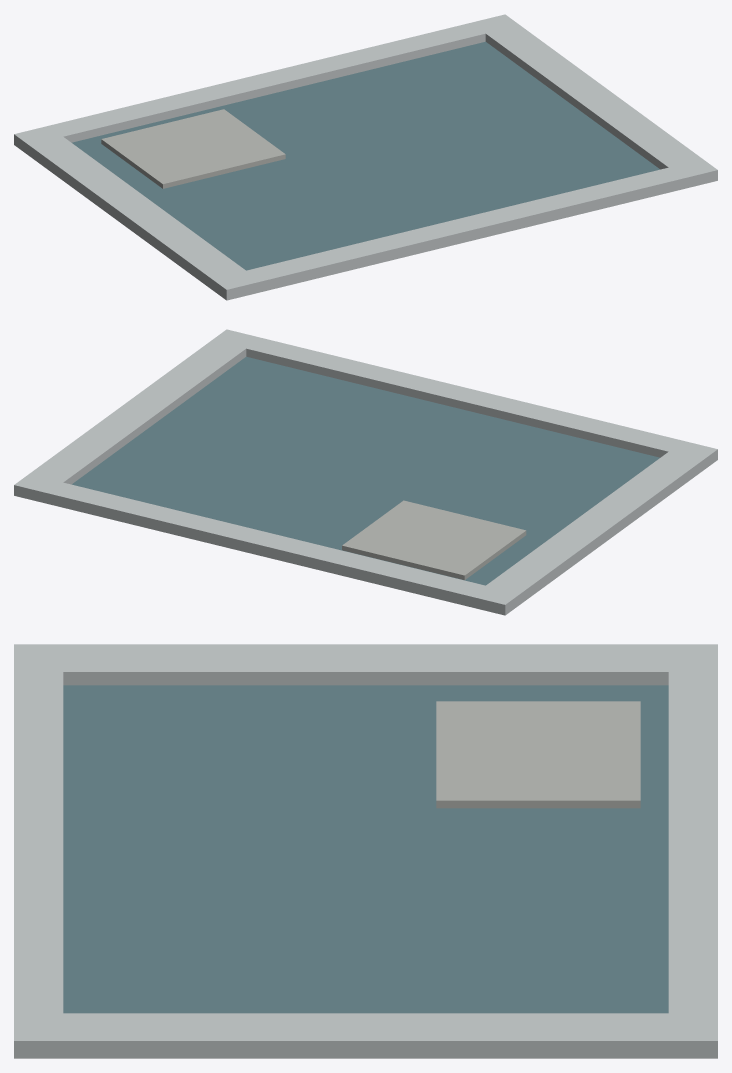
Rendered from ice_cut_pool.glb.
3 renders of one model, top to bottom at view 1: azimuth 30°, elevation 25°; view 2: azimuth 150°, elevation 25°; view 3: azimuth 270°, elevation 25°, orthographic. The views are drawn at different scales.
Parts seen in each view (by area): view 1: ice_cut_pool; view 2: ice_cut_pool; view 3: ice_cut_pool.
Part boxes in pixels (left/top/right/bottom): ice_cut_pool: left=14, top=14, right=717, bottom=300; ice_cut_pool: left=14, top=329, right=717, bottom=615; ice_cut_pool: left=14, top=644, right=717, bottom=1058.
Bounding box in the file's own units: 3.84 × 0.08 × 2.88.
